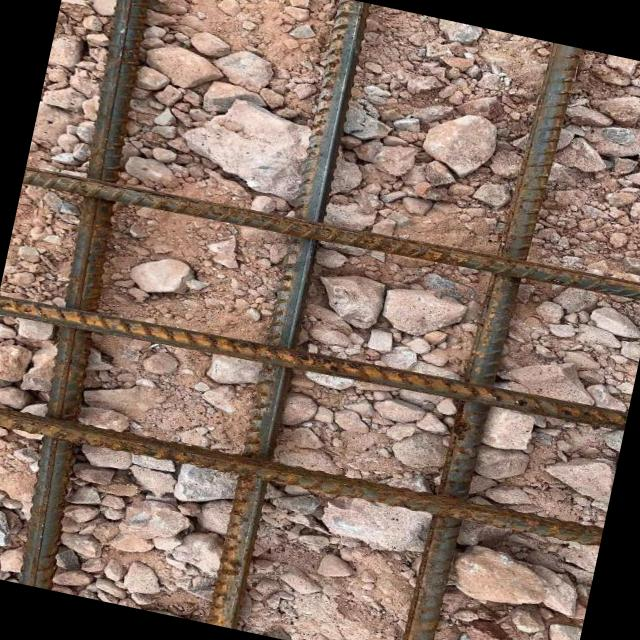ribbed bar: (397, 38, 584, 640), (0, 0, 187, 589), (0, 278, 628, 446), (208, 0, 372, 629), (23, 151, 640, 317), (0, 395, 602, 553)
